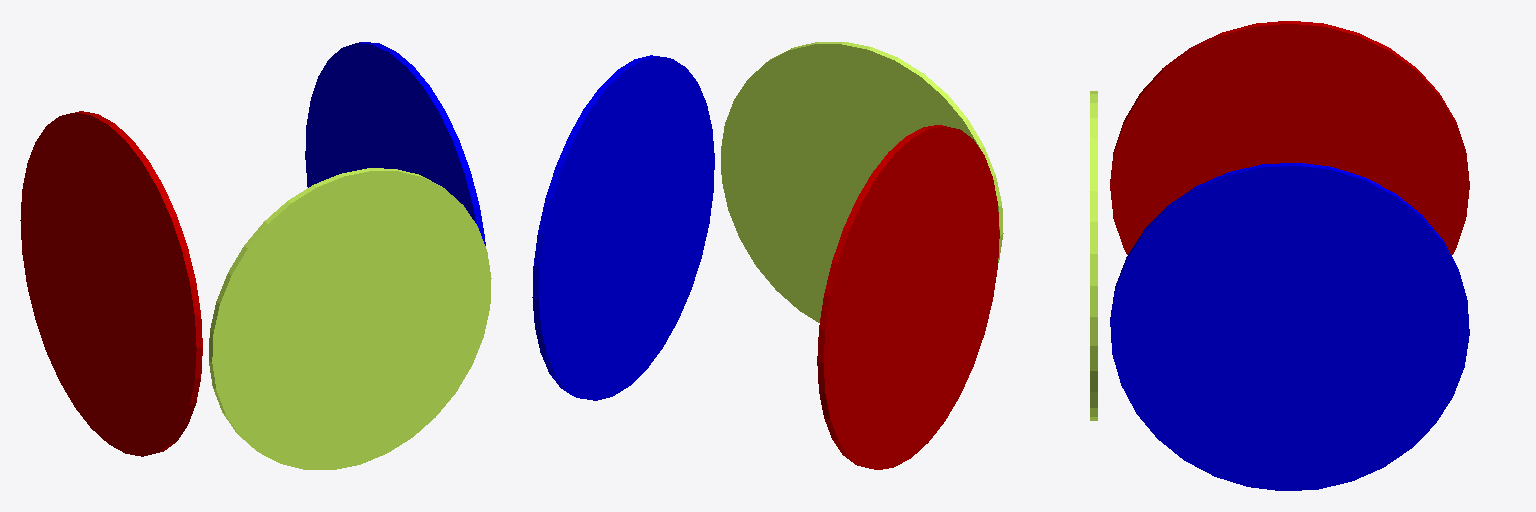
URDF robot description (smore):
<robot name="smore" version="1.0">
  <joint name="back_wheel_link_joint" type="continuous">
    <limit lower="0" upper="0" effort="0.00000" velocity="0.00000"/>
    <origin rpy="0.00000 0.00000 0.00000" xyz="0.10390 0.05900 0.01019"/>
    <parent link="chasis_link"/>
    <child link="back_link"/>
    <axis xyz="1.00000 0.00000 0.00000"/>
  </joint>
  <joint name="front_wheel_link_joint" type="continuous">
    <limit lower="0" upper="0" effort="0.00000" velocity="0.00000"/>
    <origin rpy="1.57080 0.00000 0.00000" xyz="0.00000 -0.10251 -0.00000"/>
    <parent link="chasis_link"/>
    <child link="front_wheel_link"/>
    <axis xyz="0.00000 0.00000 1.00000"/>
  </joint>
  <joint name="left_wheel_link_joint" type="continuous">
    <limit lower="0" upper="0" effort="0.00000" velocity="0.00000"/>
    <origin rpy="1.57080 1.41363 1.57080" xyz="0.11200 0.02822 -0.00000"/>
    <parent link="chasis_link"/>
    <child link="left_wheel_link"/>
    <axis xyz="0.00000 0.00000 1.00000"/>
  </joint>
  <joint name="right_wheel_link_joint" type="continuous">
    <limit lower="0" upper="0" effort="0.00000" velocity="0.00000"/>
    <origin rpy="0.00000 1.57080 0.00000" xyz="-0.11200 0.02822 0.00000"/>
    <parent link="chasis_link"/>
    <child link="right_wheel_link"/>
    <axis xyz="0.00000 0.00000 1.00000"/>
  </joint>
  <link name="back_link">
    <collision name="back_collision">
      <origin rpy="-0.00000 0.00000 -0.00000" xyz="0.00028 -0.00040 -0.00019"/>
      <geometry>
        <mesh filename="[local-path]/smore_ws/src/smore_project/ros_gz_example_description/models/smore/meshes/dae/Cube.004.dae" scale="0.00300 0.08000 0.07000"/>
      </geometry>
    </collision>
    <visual name="back">
      <origin rpy="-0.00000 0.00000 0.00000" xyz="0.00000 0.00000 -0.00000"/>
      <material name="Material.004"/>
      <geometry>
        <mesh filename="[local-path]/smore_ws/src/smore_project/ros_gz_example_description/models/smore/meshes/dae/Cube.004.dae" scale="0.00300 0.08000 0.07000"/>
      </geometry>
    </visual>
  </link>
  <link name="chasis_link">
    <collision name="chasis_collision">
      <origin rpy="0.00000 0.00000 0.00000" xyz="0.00000 0.00000 0.00000"/>
      <geometry>
        <mesh filename="[local-path]/smore_ws/src/smore_project/ros_gz_example_description/models/smore/meshes/dae/Cube.dae" scale="0.10000 0.10000 0.10000"/>
      </geometry>
    </collision>
    <inertial>
      <inertia ixx="0.00100" ixy="0.00000" ixz="0.00000" iyy="0.00100" iyz="0.00000" izz="0.00100"/>
      <origin rpy="0.00000 0.00000 0.00000" xyz="0.00000 0.00000 0.00000"/>
      <mass value="0.01000"/>
    </inertial>
    <visual name="chasis">
      <origin rpy="0.00000 0.00000 0.00000" xyz="0.00000 0.00000 0.00000"/>
      <material name="Material"/>
      <geometry>
        <mesh filename="[local-path]/smore_ws/src/smore_project/ros_gz_example_description/models/smore/meshes/dae/Cube.dae" scale="0.10000 0.10000 0.10000"/>
      </geometry>
    </visual>
  </link>
  <link name="front_wheel_link">
    <collision name="front_wheel_collision">
      <origin rpy="0.00000 -0.00000 -0.14096" xyz="0.00000 0.00000 -0.00000"/>
      <geometry>
        <cylinder radius="0.11000" length="0.00500"/>
      </geometry>
    </collision>
    <inertial>
      <inertia ixx="0.00003" ixy="-0.00000" ixz="0.00000" iyy="0.00006" iyz="-0.00000" izz="0.00003"/>
      <origin rpy="0.00000 0.00000 0.00000" xyz="-0.00000 -0.00000 -0.00000"/>
      <mass value="0.01000"/>
    </inertial>
    <visual name="front_wheel">
      <origin rpy="0.00000 -0.00000 -0.14096" xyz="-0.00000 -0.00000 -0.00000"/>
      <material name="Material.005"/>
      <geometry>
        <cylinder radius="0.11000" length="0.00500"/>
      </geometry>
    </visual>
  </link>
  <link name="left_wheel_link">
    <collision name="left_wheel_collision">
      <origin rpy="-0.00000 -0.00000 -0.15717" xyz="-0.00000 -0.00000 0.00000"/>
      <geometry>
        <cylinder radius="0.12008" length="0.00500"/>
      </geometry>
    </collision>
    <inertial>
      <inertia ixx="0.00007" ixy="-0.00000" ixz="-0.00000" iyy="0.00004" iyz="0.00000" izz="0.00004"/>
      <origin rpy="0.00000 0.00000 0.00000" xyz="-0.00000 -0.00000 -0.00000"/>
      <mass value="0.01000"/>
    </inertial>
    <visual name="left_wheel">
      <origin rpy="0.00000 0.00000 0.00000" xyz="0.00000 -0.00000 -0.00000"/>
      <material name="Material.003"/>
      <geometry>
        <cylinder radius="0.12000" length="0.00500"/>
      </geometry>
    </visual>
  </link>
  <link name="right_wheel_link">
    <collision name="right_wheel_collision">
      <origin rpy="-0.00000 -0.00000 0.00000" xyz="0.00000 0.00000 -0.00000"/>
      <geometry>
        <cylinder radius="0.12084" length="0.00504"/>
      </geometry>
    </collision>
    <inertial>
      <inertia ixx="0.00007" ixy="-0.00000" ixz="0.00000" iyy="0.00004" iyz="-0.00000" izz="0.00004"/>
      <origin rpy="0.00000 0.00000 0.00000" xyz="0.00000 -0.00000 -0.00000"/>
      <mass value="0.01000"/>
    </inertial>
    <visual name="right_wheel">
      <origin rpy="-0.00000 -0.00000 0.00000" xyz="0.00000 0.00000 -0.00000"/>
      <material name="Material.001"/>
      <geometry>
        <cylinder radius="0.12000" length="0.00500"/>
      </geometry>
    </visual>
  </link>
  <material name="Material">
    <color rgba="0.80000 0.80000 0.80000 1.00000"/>
  </material>
  <material name="Material.001">
    <color rgba="0.80000 0.00000 0.00000 1.00000"/>
  </material>
  <material name="Material.003">
    <color rgba="0.00000 0.00000 1.00000 1.00000"/>
  </material>
  <material name="Material.004">
    <color rgba="0.05882 0.80000 0.27843 1.00000"/>
  </material>
  <material name="Material.005">
    <color rgba="0.83137 1.00000 0.40000 1.00000"/>
  </material>
</robot>

--- What the picture shows (computed from the rendered views, not written in the file) ---
3 views of the same robot in one strip: view 1: azimuth 30°, elevation 25°; view 2: azimuth 150°, elevation 25°; view 3: azimuth 270°, elevation 25° (orthographic).
Robot: smore — 5 links, 4 joints (4 continuous); root link chasis_link; default pose: all joints at 0.
Links seen in each view (by area): view 1: front_wheel_link, right_wheel_link, left_wheel_link; view 2: left_wheel_link, right_wheel_link, front_wheel_link; view 3: left_wheel_link, right_wheel_link, front_wheel_link.
Link boxes in pixels (box(x1,y1,x2,y2)): front_wheel_link: box(209, 168, 491, 469); right_wheel_link: box(20, 111, 202, 456); left_wheel_link: box(305, 42, 485, 245); left_wheel_link: box(532, 55, 714, 400); right_wheel_link: box(817, 125, 999, 469); front_wheel_link: box(721, 42, 1003, 322); left_wheel_link: box(1110, 163, 1469, 490); right_wheel_link: box(1110, 21, 1469, 255); front_wheel_link: box(1090, 91, 1097, 420).
Bounding box of the posed robot: 0.229 × 0.2532 × 0.24 m (x, y, z).
Geometry: only primitive shapes (box / cylinder / sphere) drawn; not drawn: 2 mesh visuals (reference in a form the renderer does not follow).